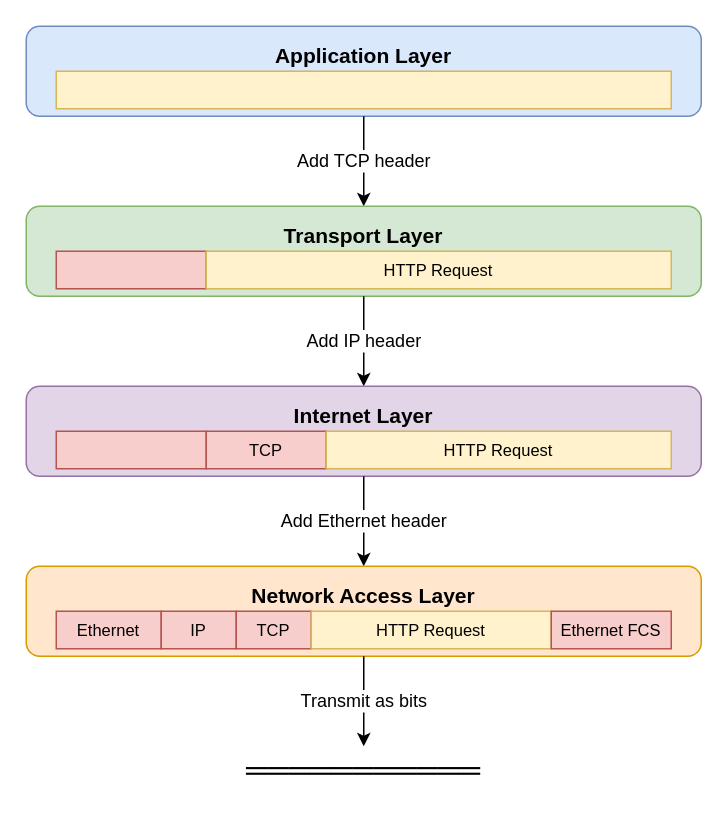
The diagram is 728 pixels wide and 818 high, and some of its shapes have lost their labels. Each missing label, with the centre of its shape:
HTTP Request: "GET /index.html": (x=363, y=89)
IP Header: 192.168.1.1: (x=130, y=449)
TCP Header: Port 80: (x=130, y=269)
